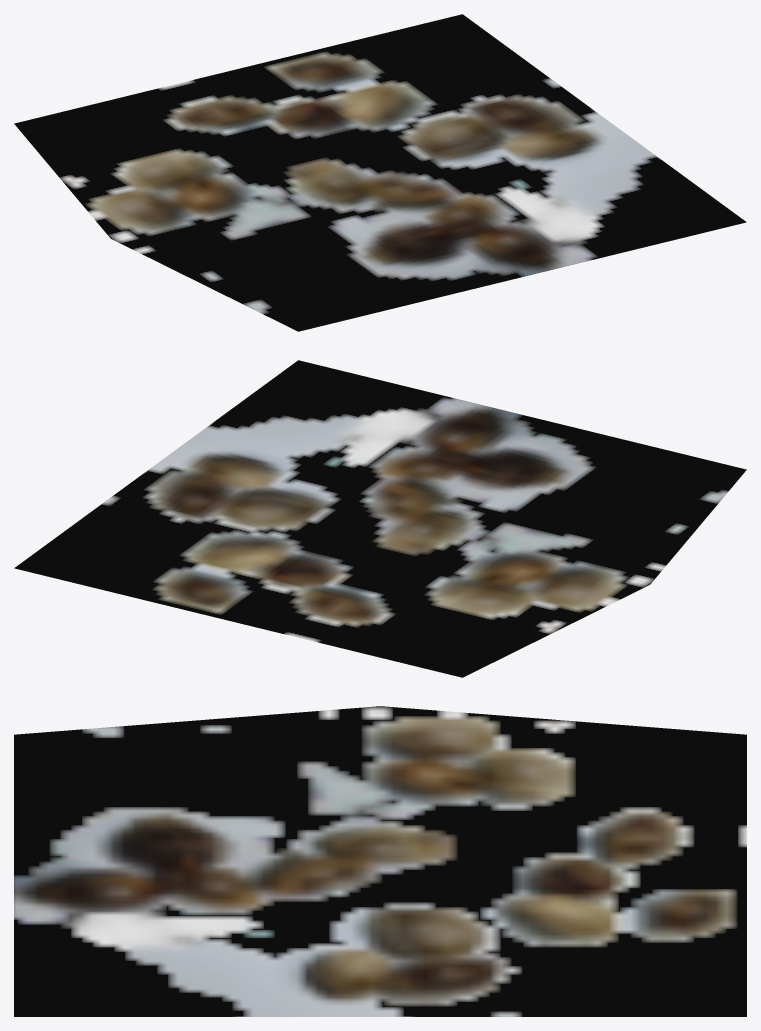
Rendered from cannabis_seeds.FBX.
The picture shows the model from 3 angles, top to bottom: view 1: azimuth 30°, elevation 25°; view 2: azimuth 150°, elevation 25°; view 3: azimuth 270°, elevation 25°; orthographic projection. The views are drawn at different scales.
Parts seen in each view (by area): view 1: cannabis_seeds; view 2: cannabis_seeds; view 3: cannabis_seeds.
Part boxes in pixels (left/top/right/bottom): cannabis_seeds: left=14, top=14, right=746, bottom=331; cannabis_seeds: left=14, top=360, right=746, bottom=677; cannabis_seeds: left=14, top=706, right=746, bottom=1016.
Bounding box in the file's own units: 6.62 × 3.25e-06 × 6.6.
